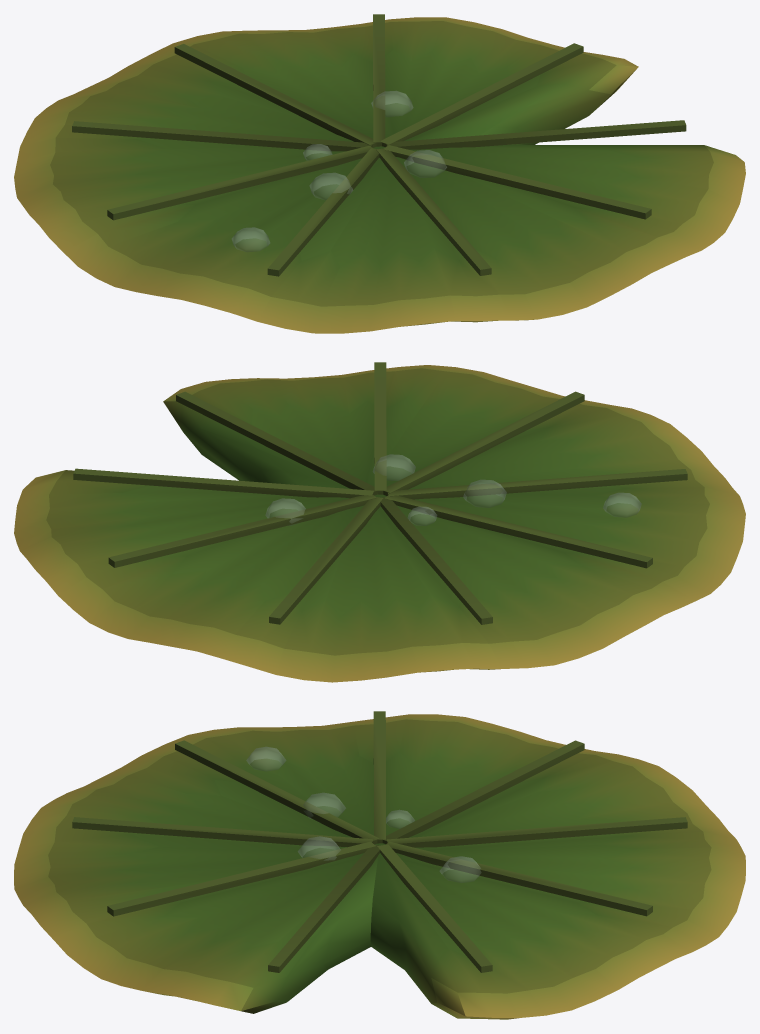
File: mire_lily_pad.glb
The picture shows the model from 3 angles, top to bottom: view 1: azimuth 30°, elevation 25°; view 2: azimuth 150°, elevation 25°; view 3: azimuth 270°, elevation 25°; orthographic projection.
Visible parts, largest first — view 1: mire_lily_pad; view 2: mire_lily_pad; view 3: mire_lily_pad.
Part boxes in pixels (box(x1,y1,x2,y2)): mire_lily_pad: box(14, 14, 745, 333); mire_lily_pad: box(14, 362, 745, 682); mire_lily_pad: box(14, 711, 745, 1019).
Bounding box in the file's own units: 4.14 × 0.4337 × 4.24.
